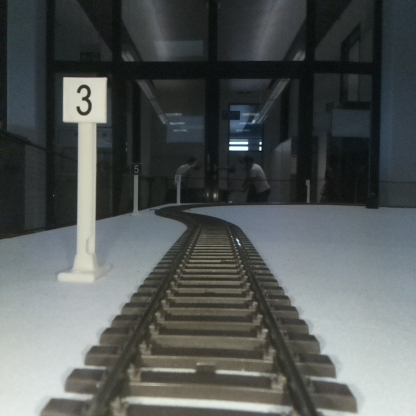black-info-5: (131, 162, 141, 216)
white-info-3: (63, 78, 106, 278)
